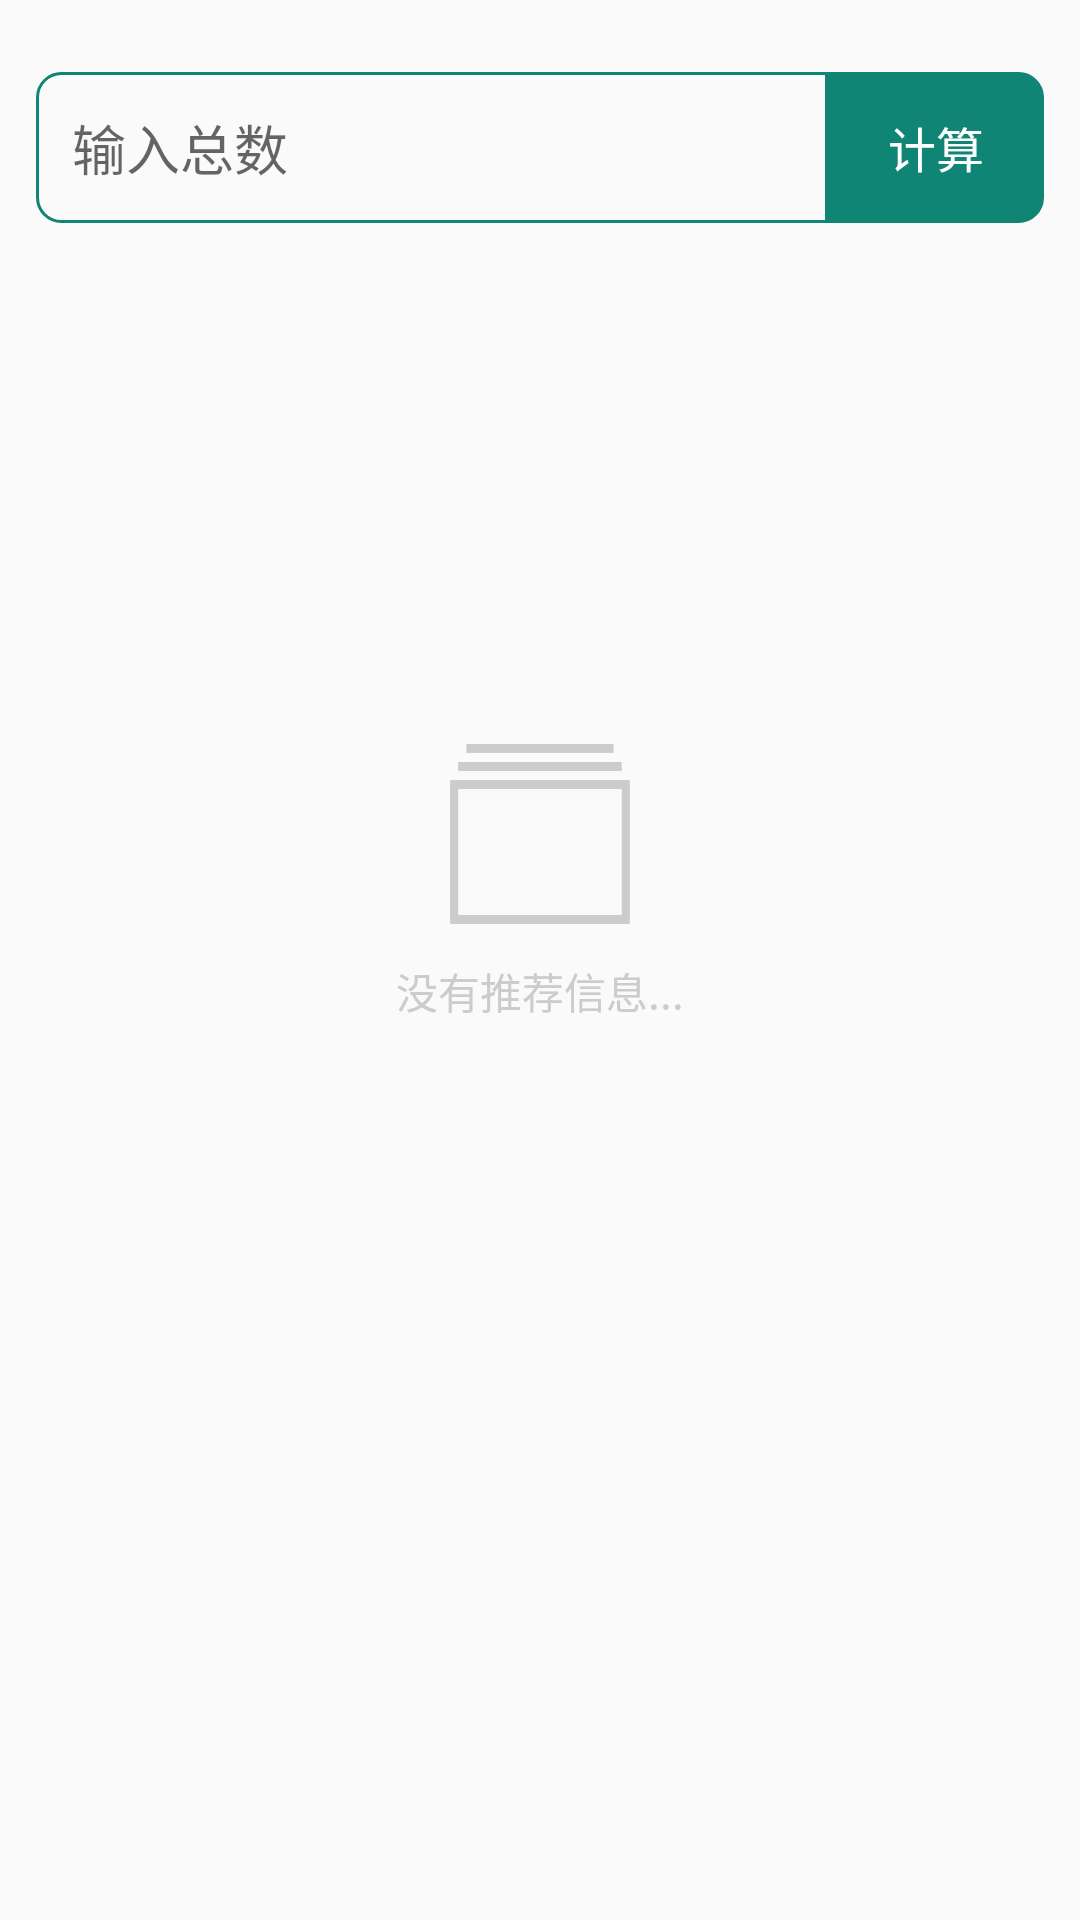

Icon click points for this 1080px x 1920px phone screenshot, format (x,y):
empty card: (540,834)
